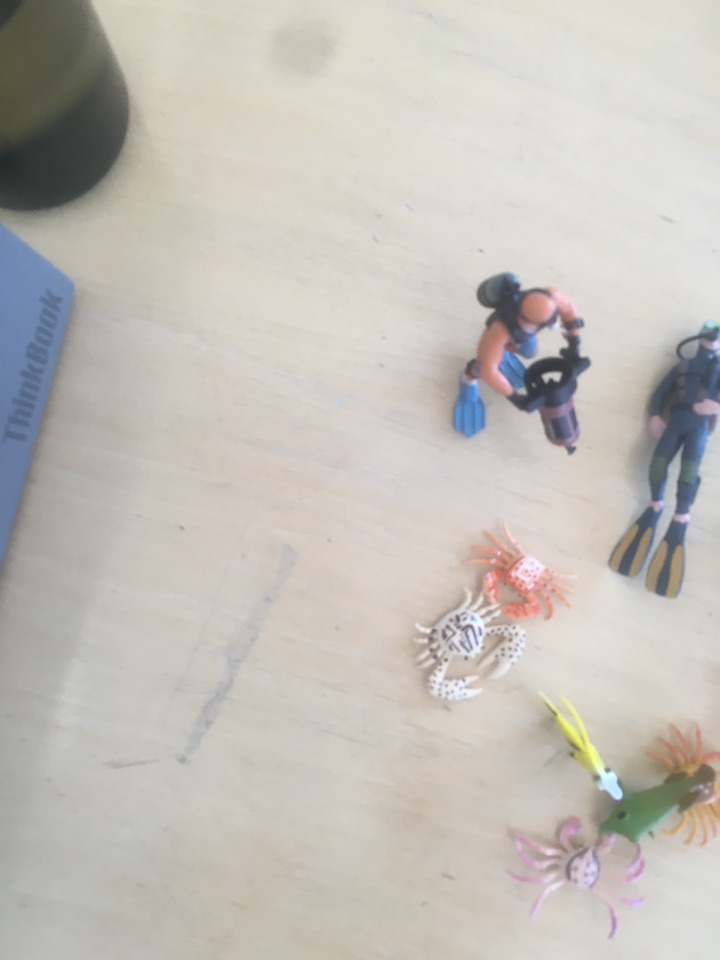crab: (502, 811, 654, 942), (411, 592, 528, 706), (462, 519, 584, 625), (654, 717, 720, 852)
danger: (530, 683, 629, 806)
diver: (603, 319, 720, 602), (450, 270, 595, 464)
fish: (593, 761, 718, 851)
